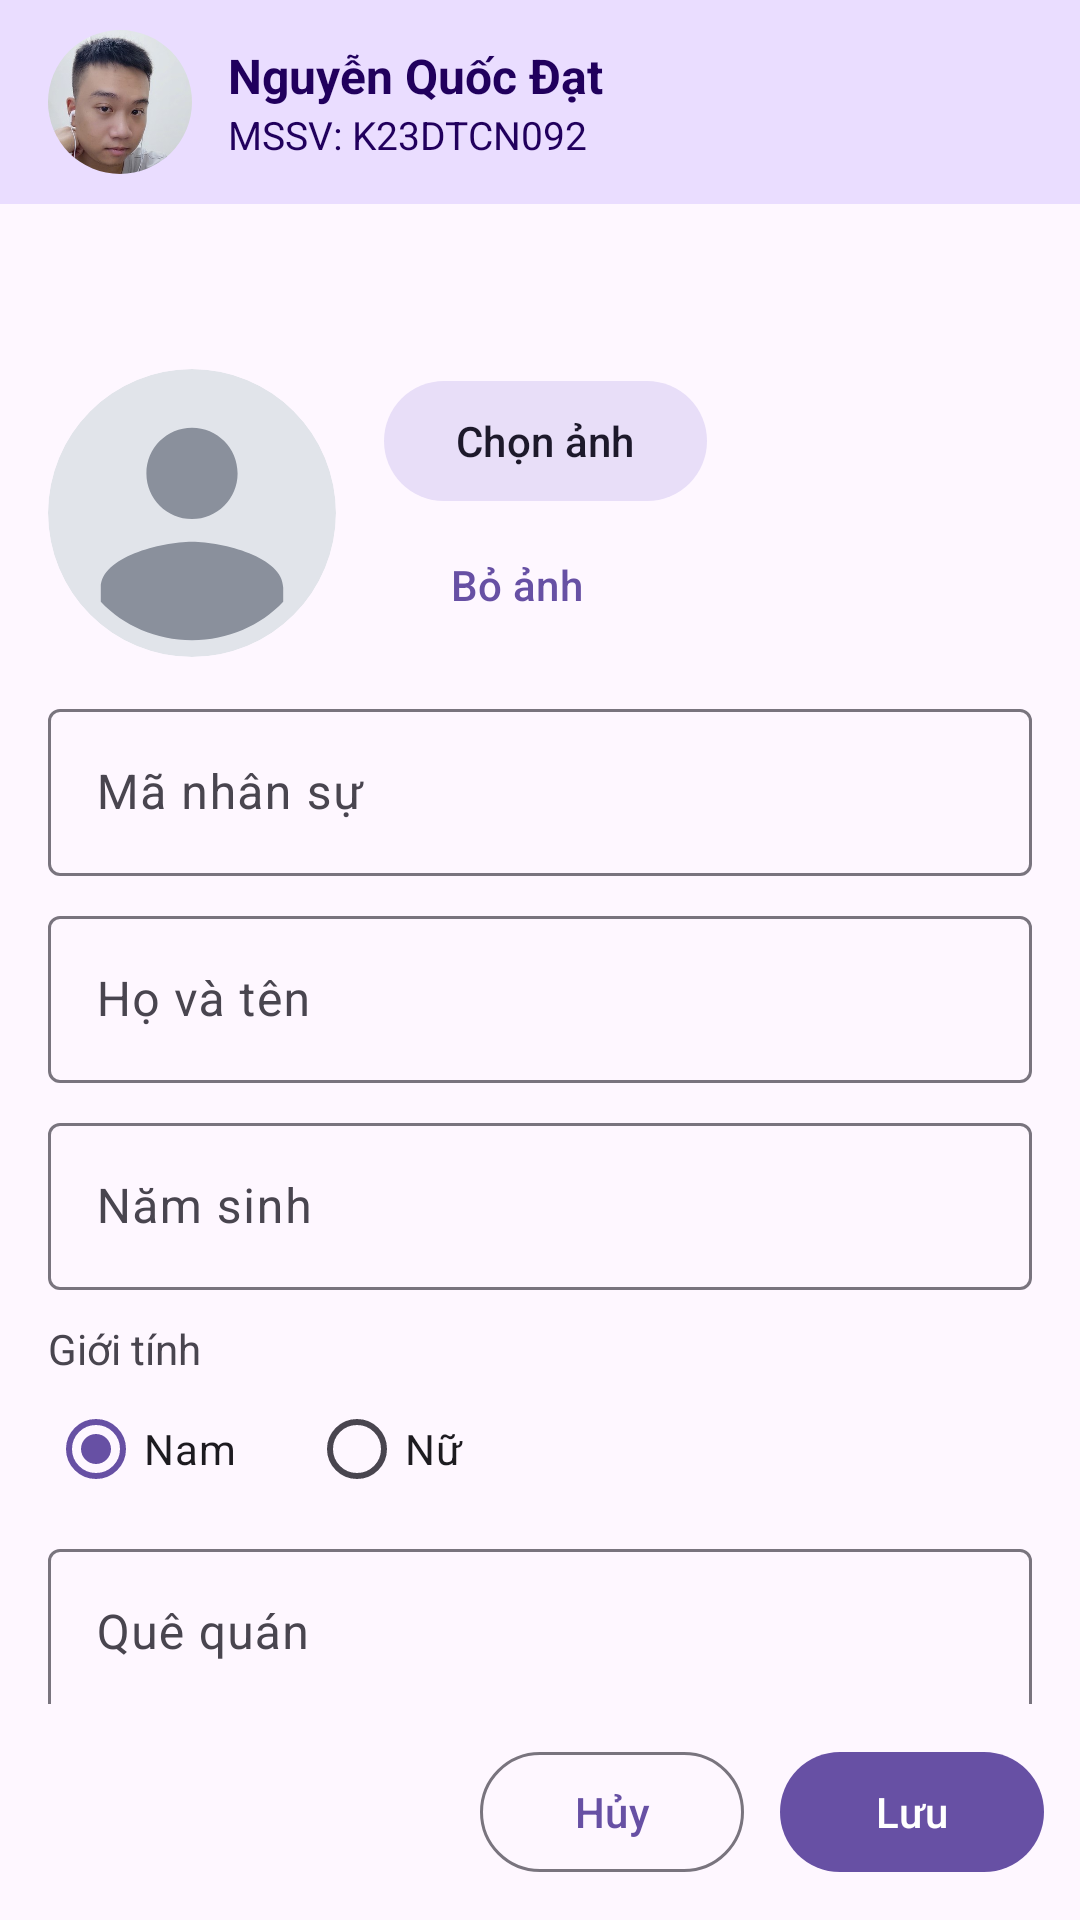

Icon bounding boxes for this 1080×1920 phone screenshot, format (x1, y1, x2, y2):
Ảnh nhân sự: (48, 369, 336, 657)
